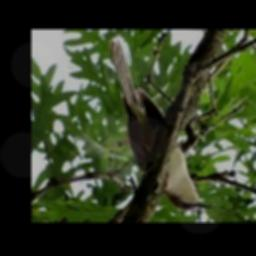Cuckoo: (108, 39, 211, 209)
